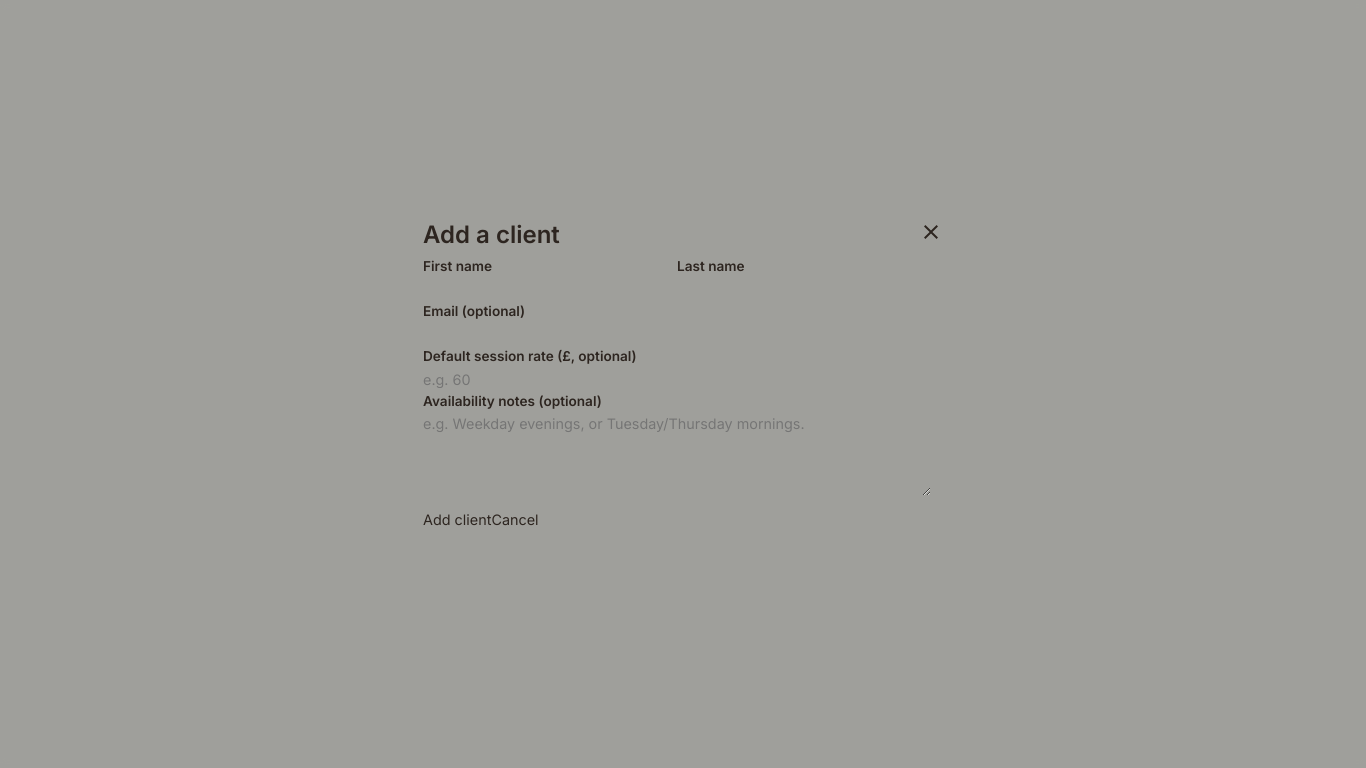
Test case: IntakeClientModal — rate lock checkbox › hides the allow-custom-rate checkbox until a rate is entered (happy path)
Expected: the field labelled "Allow the assigned staff member" is not shown
Type "60" into the number field labelled "Default session rate (£, optional)". click: coordinates (677, 379)
box: [423,368,931,391]
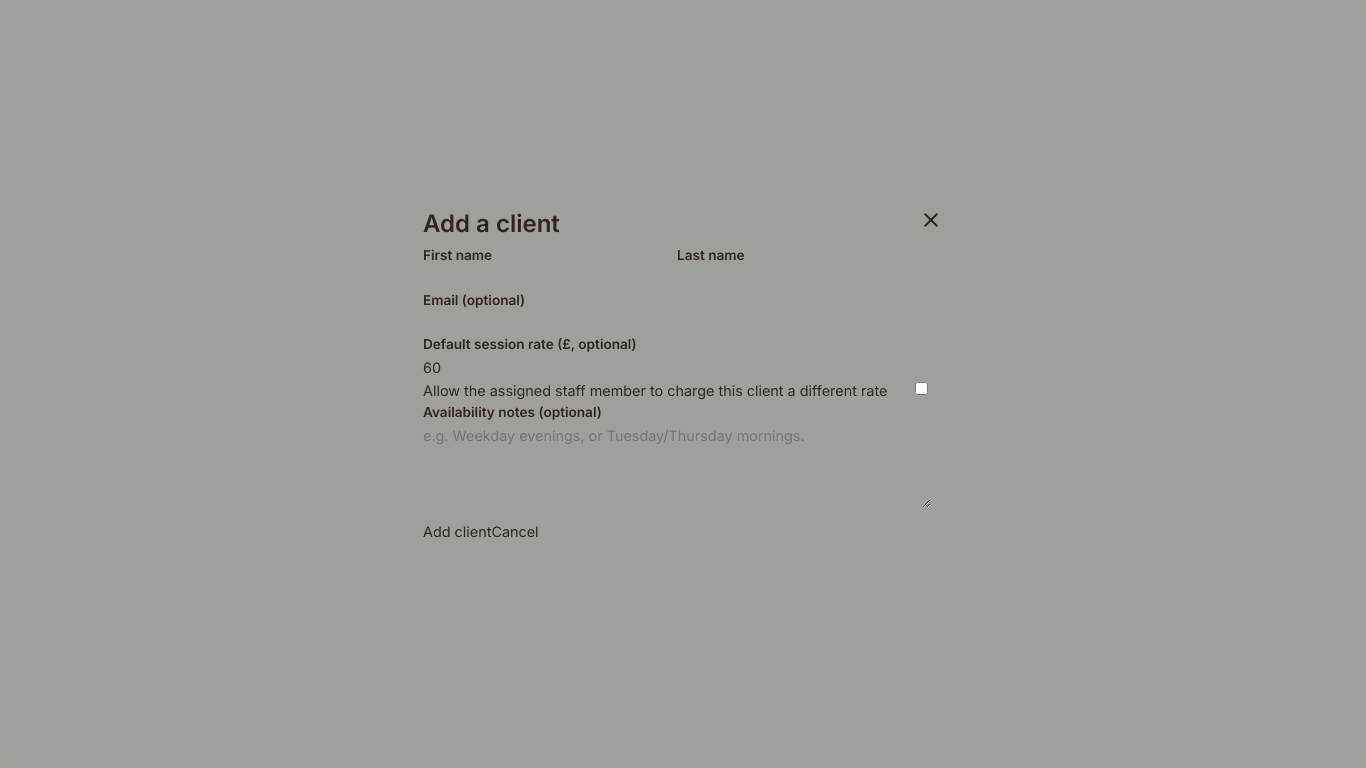
Result: the checkbox labelled "Allow the assigned staff member" is shown at [915,382,928,395]
Clear the number field labelled "Default session rate (£, optional)". click: coordinates (677, 368)
box: [423,356,931,379]
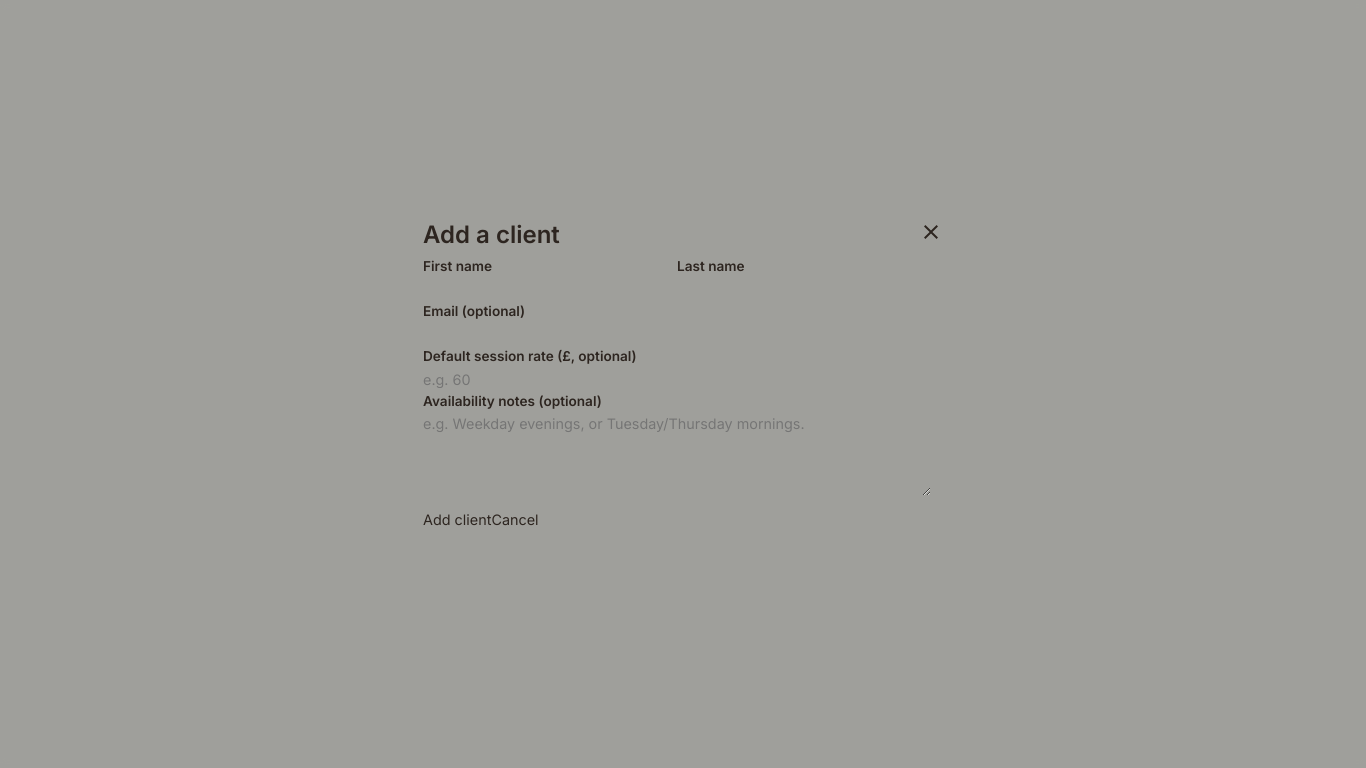
Result: the text labelled "Allow the assigned staff member" is gone
